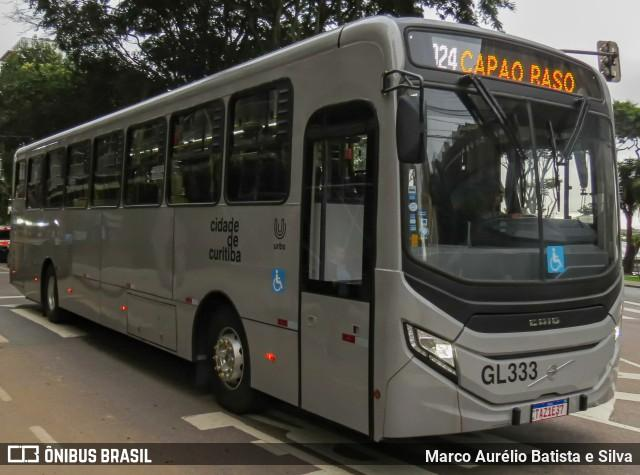CAPAO RASO: (457, 42, 581, 98)
